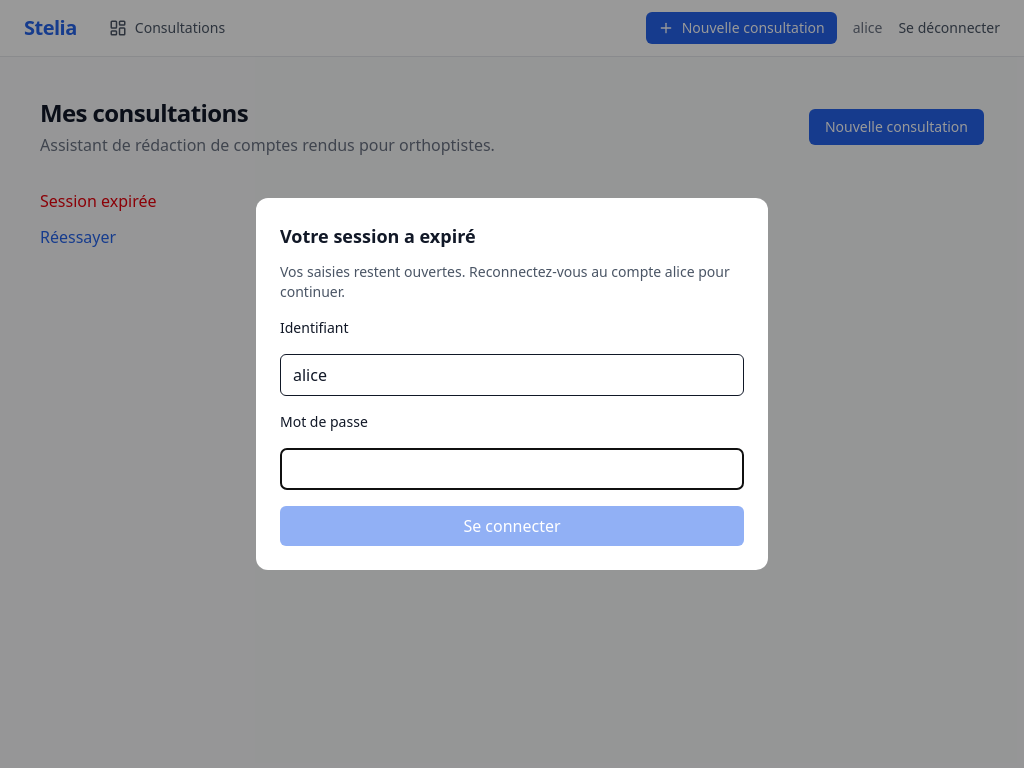
it: session recovery outside the editor › reconnects and retries the dashboard after 401 instead of presenting an empty list
Expected: the field labelled "Identifiant" holds "alice", left=280, top=354, right=744, bottom=396
In the password field labelled "Mot de passe": (512, 469) left=280, top=448, right=744, bottom=490, type "secret"
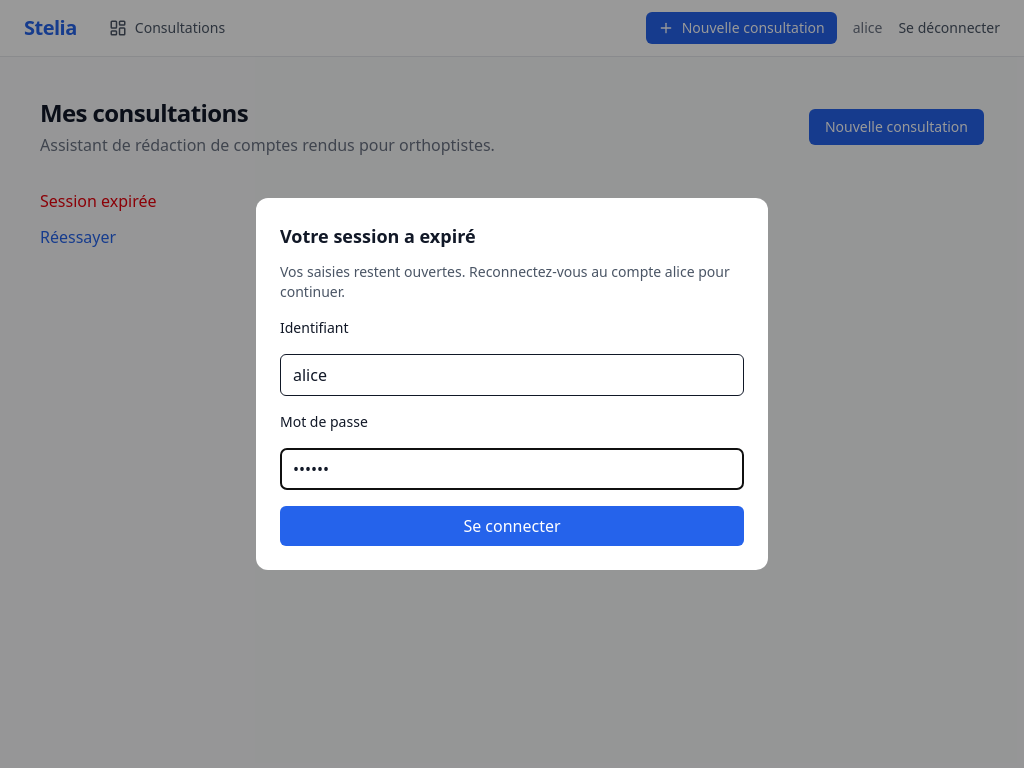
Click the button "Se connecter": (512, 526) left=280, top=506, right=744, bottom=546
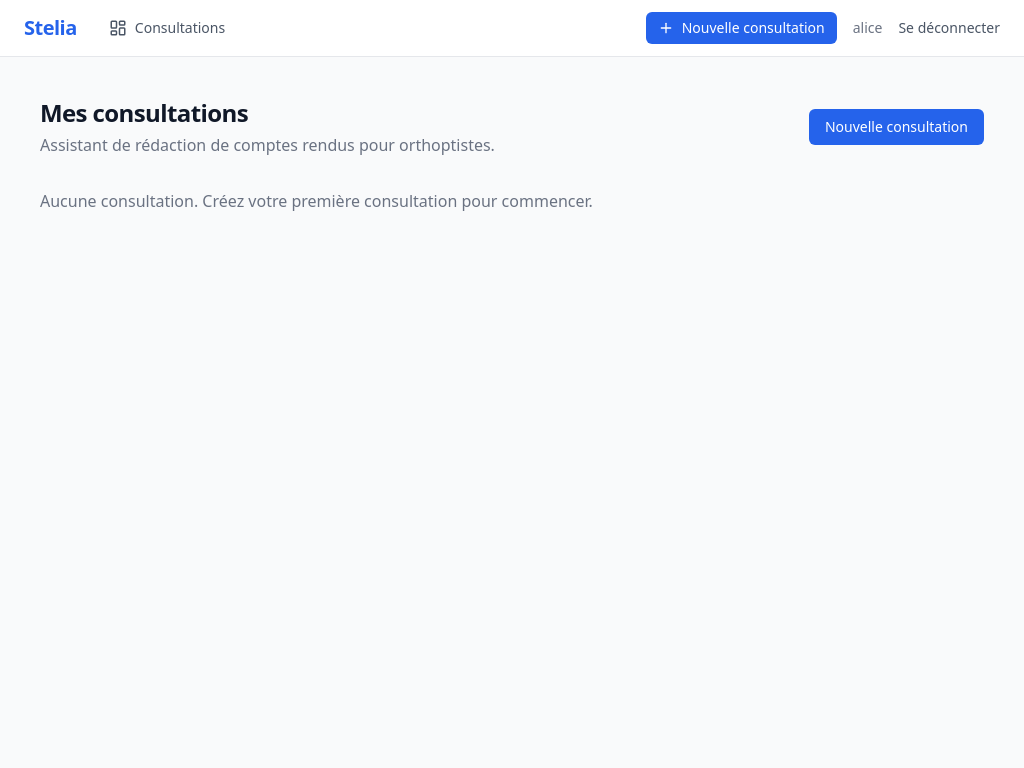
Expected: the text "Aucune consultation. Créez votre première consultation pour commencer." is shown, left=40, top=190, right=593, bottom=212
Expected: the dialog is gone
